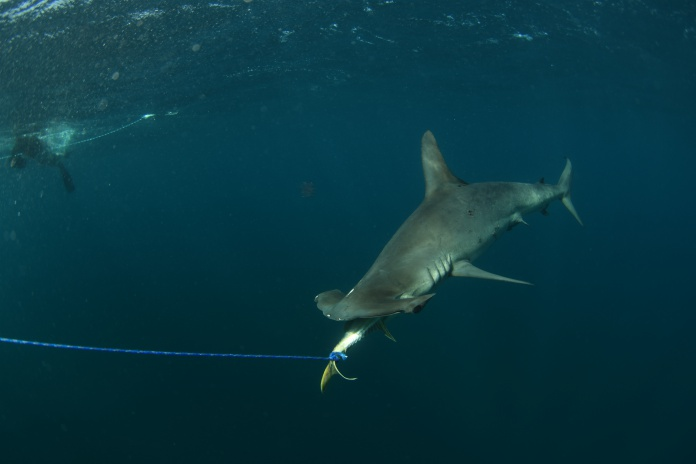Hammer: (310, 124, 625, 340)
